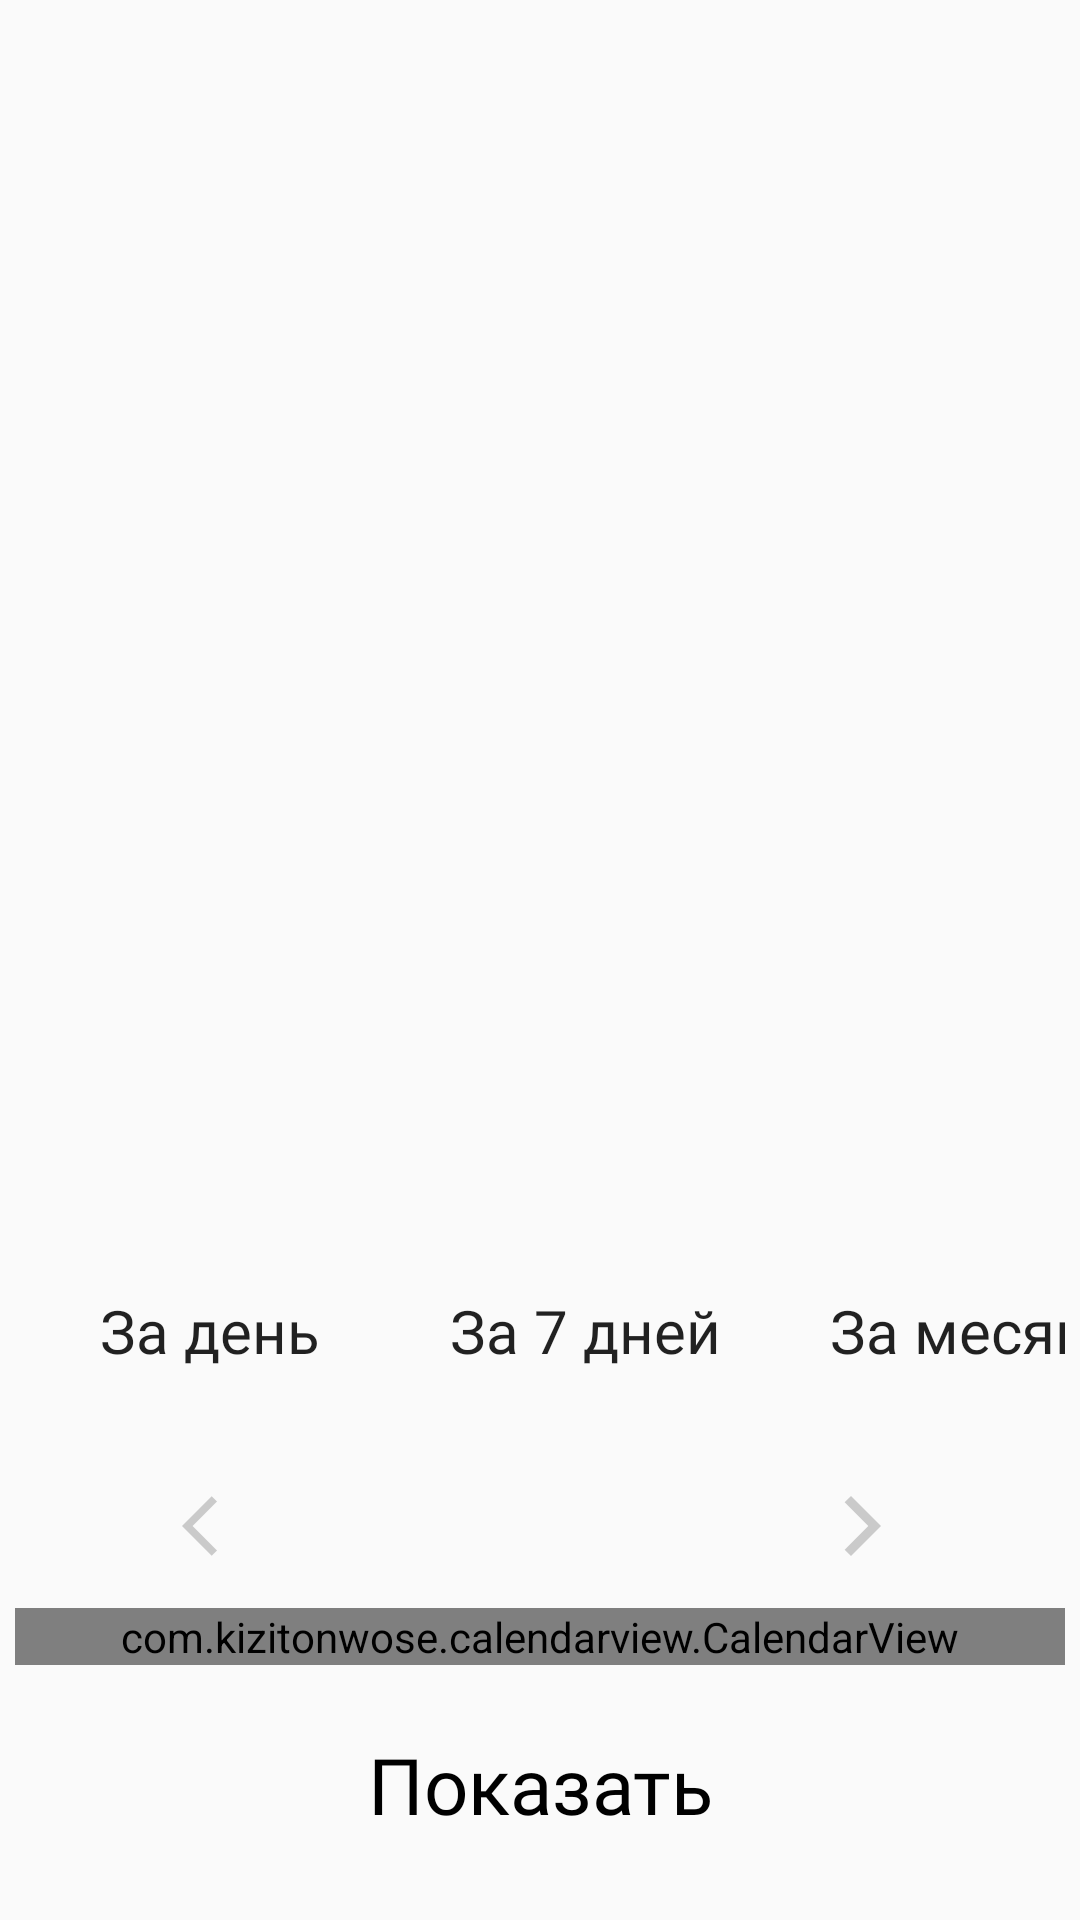

Screen size 1080px×1920px. Icon name, then its center in pixels as (x,y):
arrow left: (200,1526)
arrow right: (862,1526)
